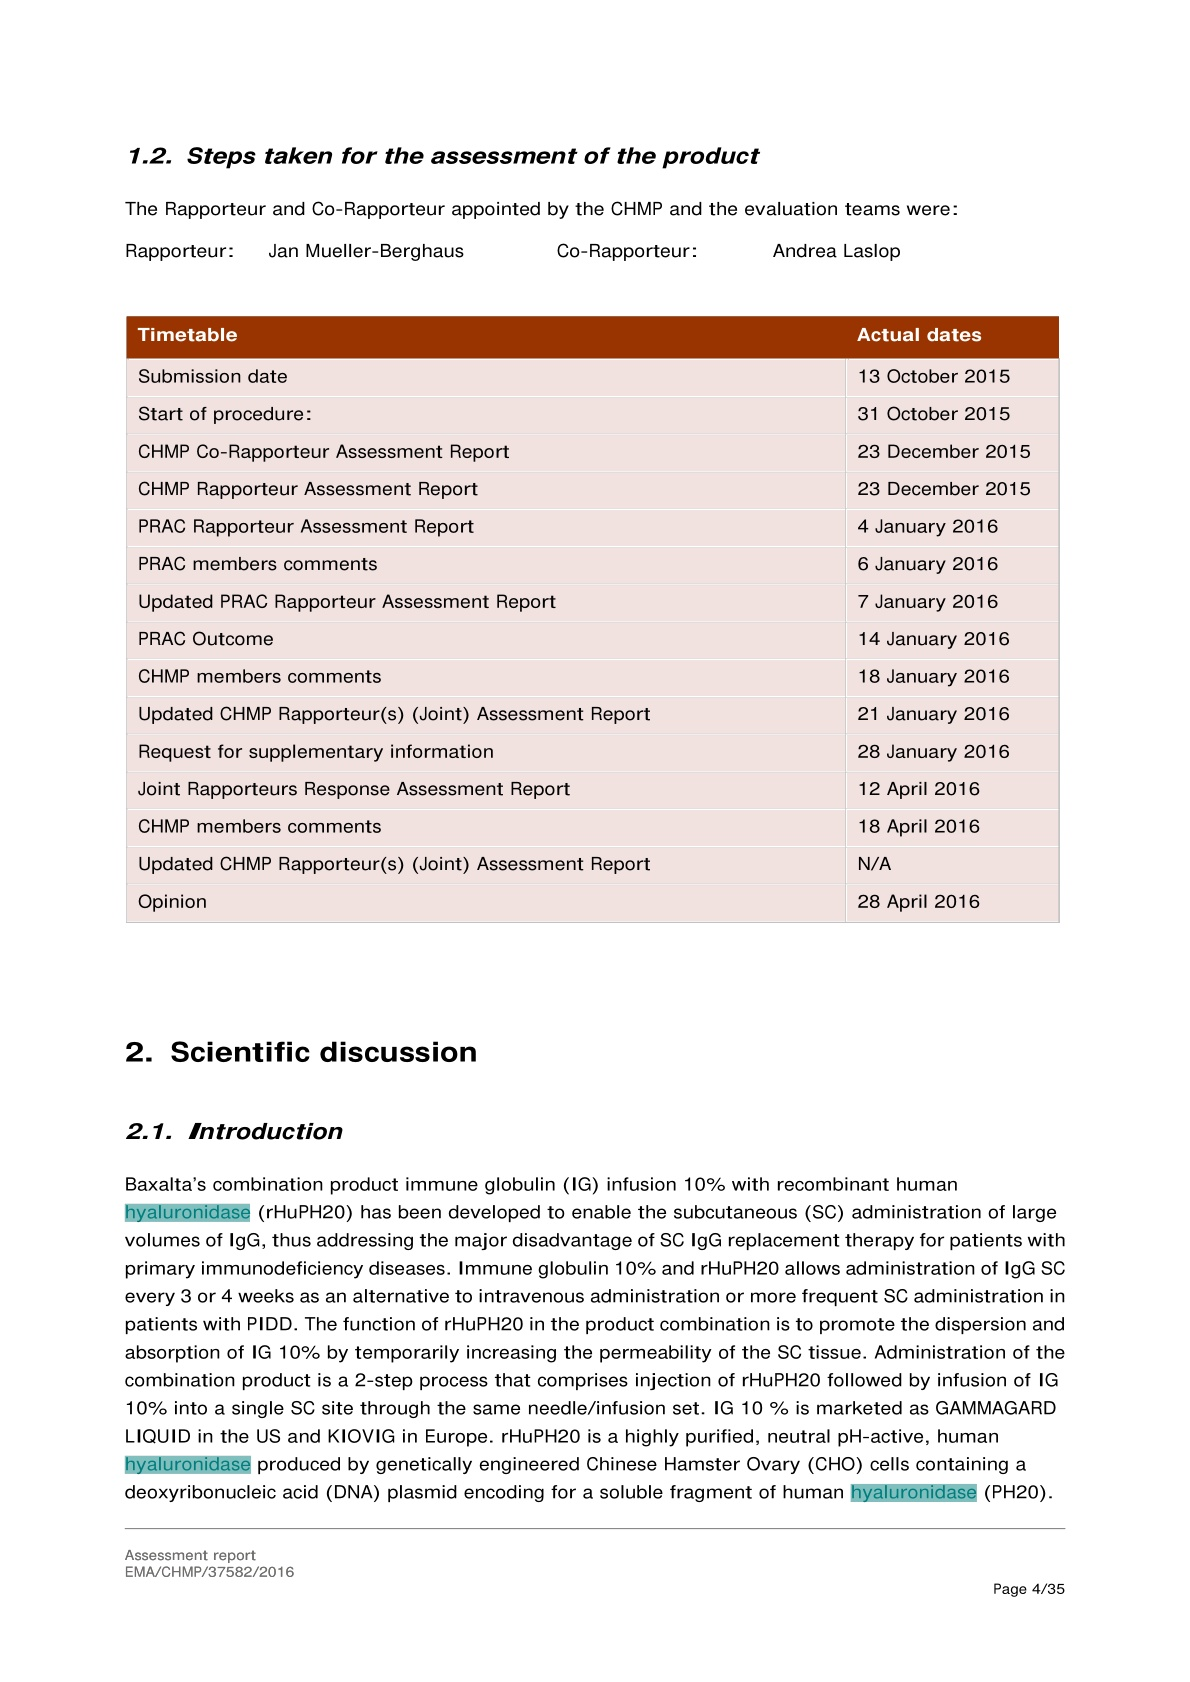full_lined: (125, 316, 1061, 923)
